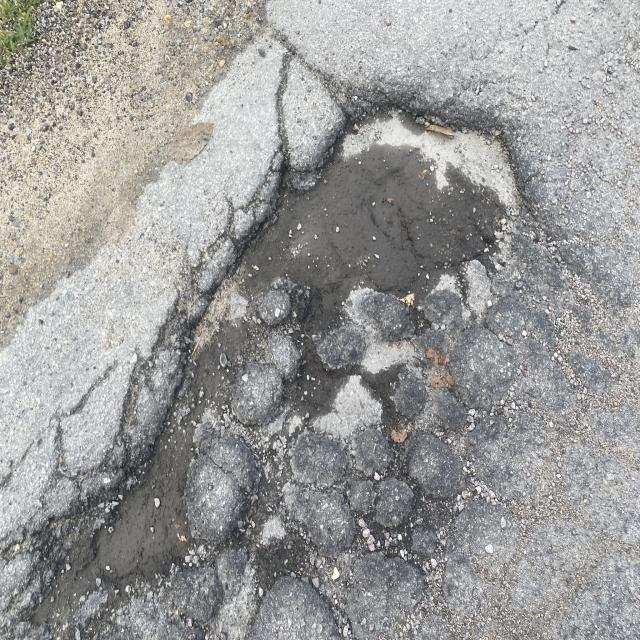Pothole: (76, 86, 640, 640)
